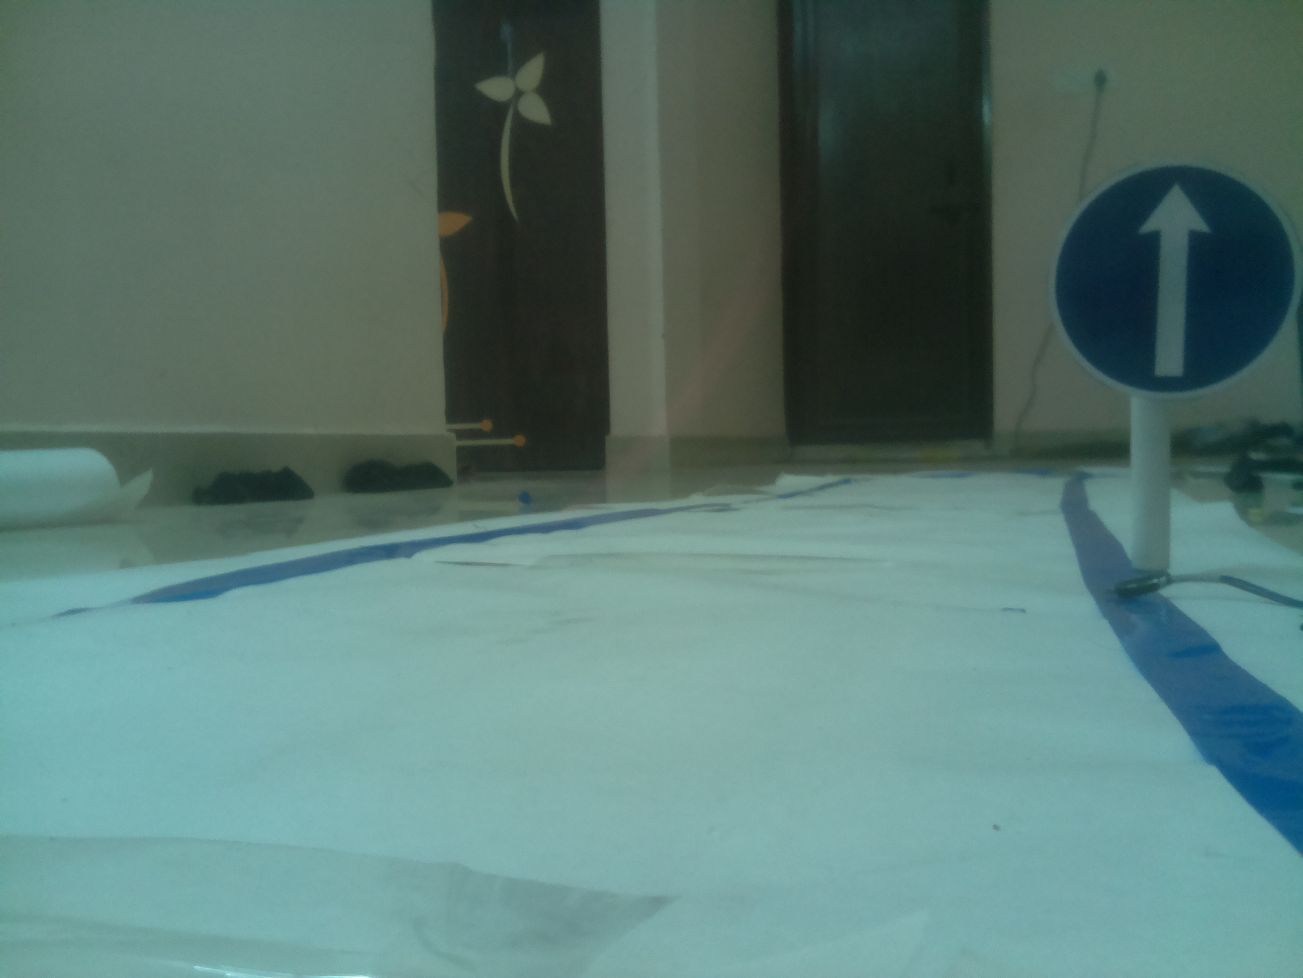go-stright: (1045, 162, 1296, 398)
